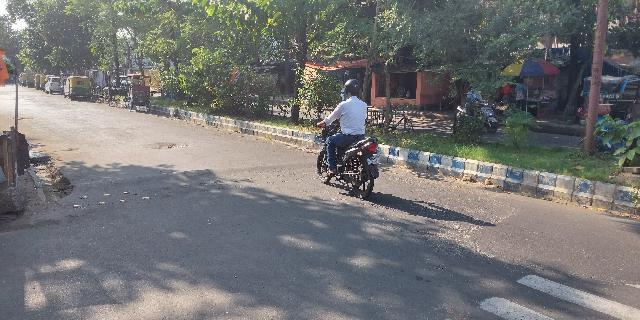Autorickshaw: (65, 73, 93, 102)
Motorbike: (302, 76, 386, 202)
Rickshaw: (120, 71, 155, 118)
